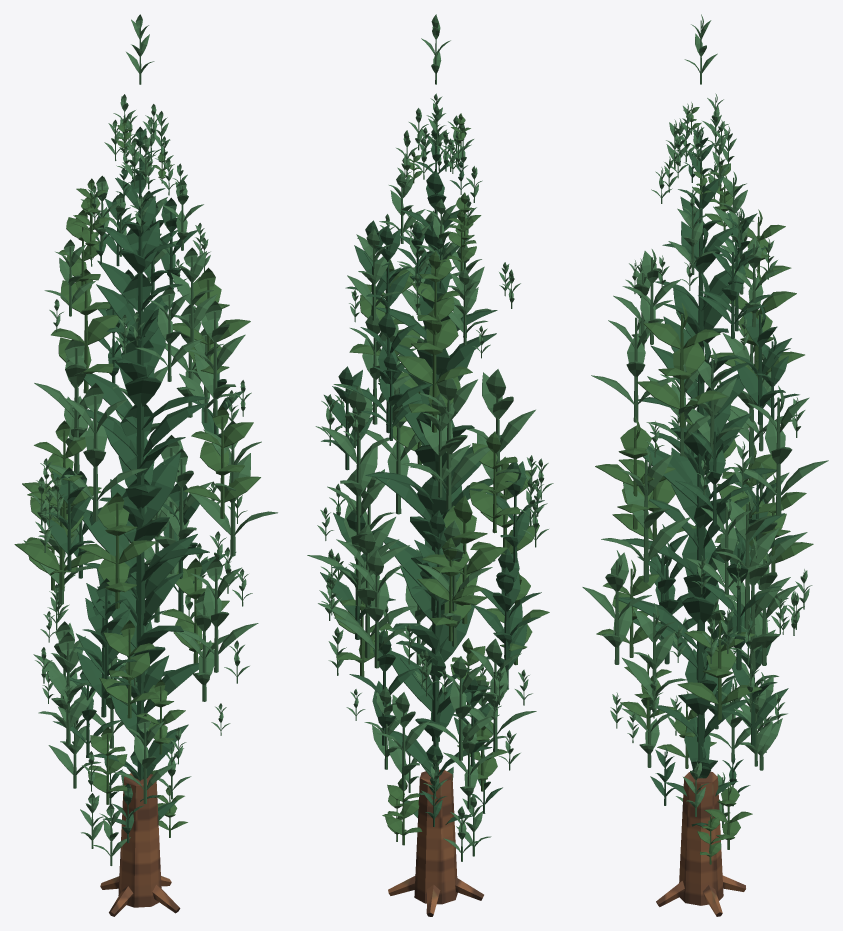
3 views of the same model, side by side, from view 1: azimuth 30°, elevation 25°; view 2: azimuth 150°, elevation 25°; view 3: azimuth 270°, elevation 25° (orthographic).
Parts seen in each view (by area): view 1: lane_cypress_light, lane_cypress.001, lane_leaf_dark, lane_bark; view 2: lane_cypress_light, lane_cypress.001, lane_leaf_dark, lane_bark; view 3: lane_cypress_light, lane_cypress.001, lane_leaf_dark, lane_bark.
Part boxes in pixels (<box>): lane_cypress_light: <box>23,14,277,865</box>; lane_cypress.001: <box>46,126,242,842</box>; lane_leaf_dark: <box>14,120,260,837</box>; lane_bark: <box>100,773,180,916</box>; lane_cypress_light: <box>307,14,553,861</box>; lane_cypress.001: <box>320,129,544,826</box>; lane_leaf_dark: <box>333,113,549,845</box>; lane_bark: <box>388,769,483,916</box>; lane_cypress_light: <box>582,14,828,827</box>; lane_cypress.001: <box>614,126,799,826</box>; lane_leaf_dark: <box>595,102,813,864</box>; lane_bark: <box>656,771,745,916</box>.
Size of the model in its own units: 1.33 by 5.19 by 1.31.
Materials: 4 (1 with a texture image).
